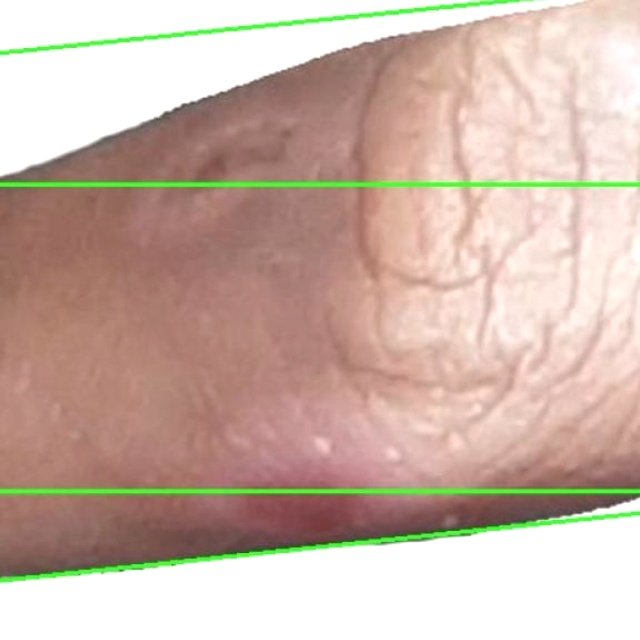Atopic Dermatitis: (0, 0, 639, 580), (0, 0, 639, 184), (0, 491, 639, 639)
